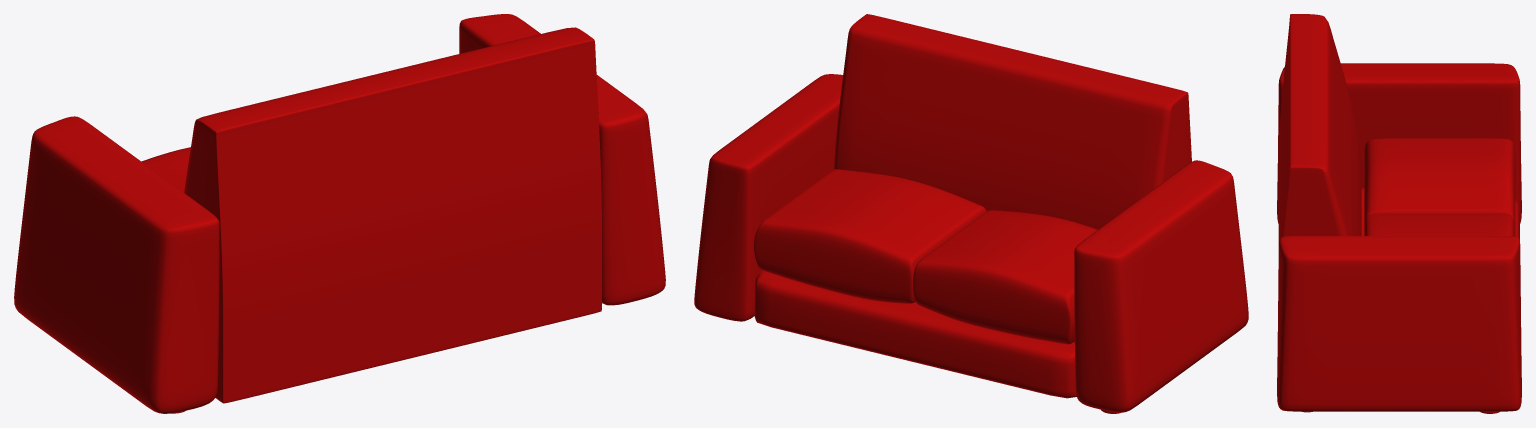
Rendered from Sofa.fbx.
3 views of the same model, side by side, from view 1: azimuth 30°, elevation 25°; view 2: azimuth 150°, elevation 25°; view 3: azimuth 270°, elevation 25° (orthographic). The views are drawn at different scales.
Parts seen in each view (by area): view 1: Sofa; view 2: Sofa; view 3: Sofa.
Boxes of the visible parts, <box> form: Sofa: <box>14,14,665,413</box>; Sofa: <box>694,14,1248,413</box>; Sofa: <box>1277,14,1521,413</box>.
Bounding box in the file's own units: 199 × 102 × 98.59.
